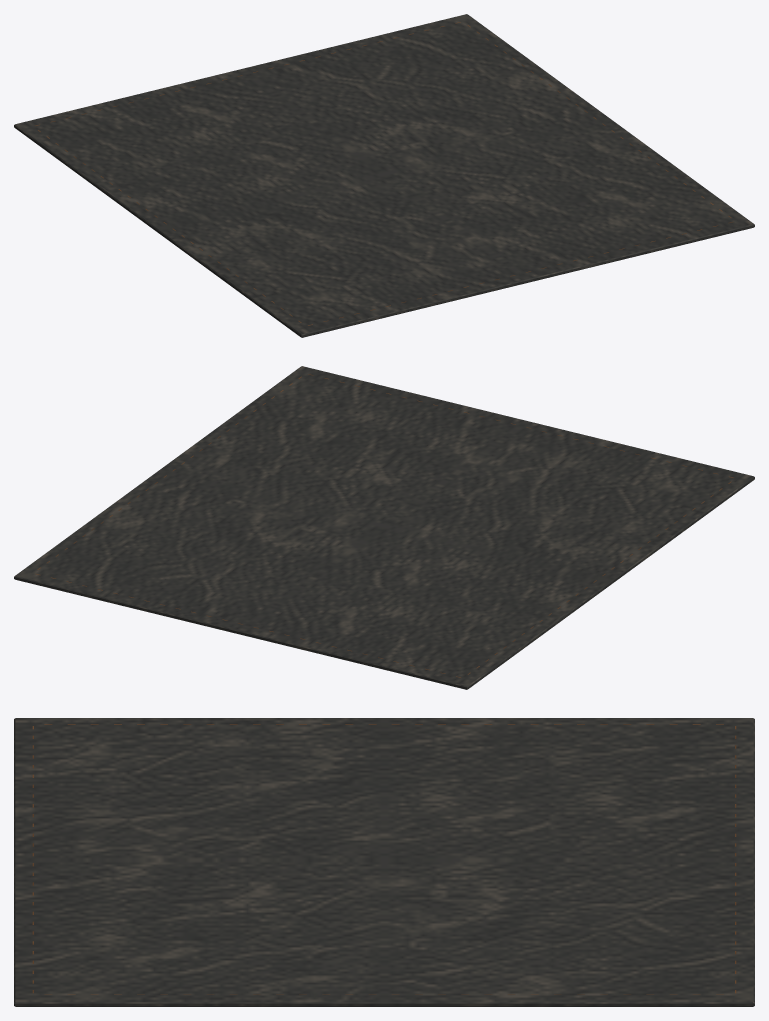
Rendered from WritingMat.obj.
3 renders of one model, top to bottom at view 1: azimuth 30°, elevation 25°; view 2: azimuth 150°, elevation 25°; view 3: azimuth 270°, elevation 25°, orthographic. The views are drawn at different scales.
Visible parts, largest first — view 1: Mat_LeatherAndStitch; view 2: Mat_LeatherAndStitch; view 3: Mat_LeatherAndStitch.
Boxes of the visible parts, x1,y1,x2,y2 form: Mat_LeatherAndStitch: (14,14,754,337); Mat_LeatherAndStitch: (14,366,754,689); Mat_LeatherAndStitch: (14,718,754,1006).
Bounding box in the file's own units: 1.02 × 0.0085 × 1.12.
Materials: 2 (2 with a texture image).
